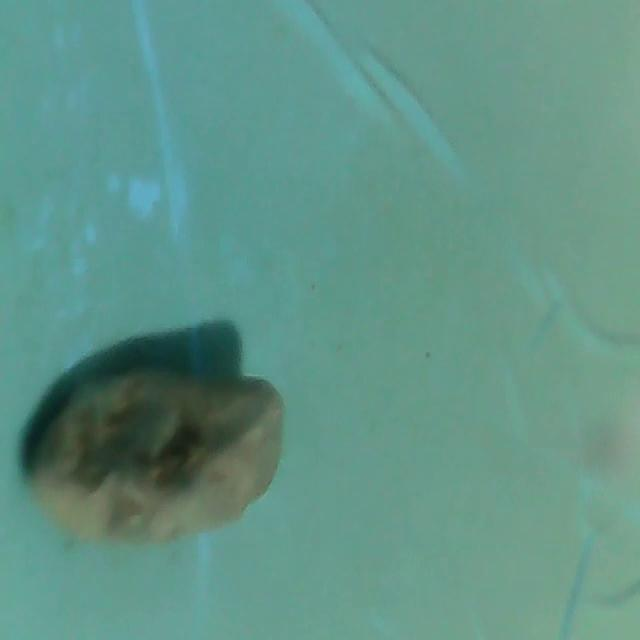rock: (21, 356, 295, 558)
